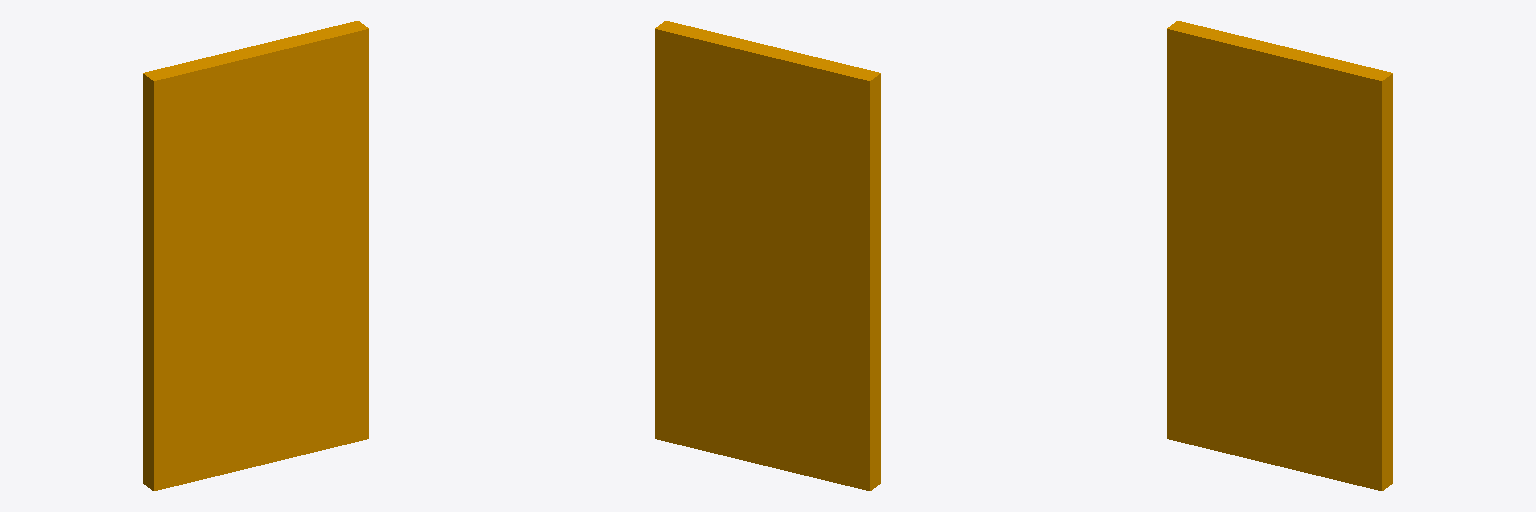
URDF robot description (door):
<robot name="door">
  <link name="door">
    <inertial>
      <origin xyz="0 0 0.0" />
      <mass value="1.0" />
      <inertia  ixx="1.0" ixy="0.0"  ixz="0.0"  iyy="1.0"  iyz="0.0"  izz="1.0" />
    </inertial>
    <visual>
      <origin xyz="0 0 0.0"/>
      <geometry>
        <box size="1.1 0.1 2" />
      </geometry>
    </visual>
    <collision>
      <origin xyz="0 0 0.0"/>
      <geometry>
        <box size="1.1 0.1 2" />
      </geometry>
    </collision>
  </link>
  <gazebo reference="door">
    <material>Gazebo/Grey</material>
  </gazebo>
</robot>

--- What the picture shows (computed from the rendered views, not written in the file) ---
Views: 3 orthographic renders of the robot side by side, from view 1: azimuth 30°, elevation 25°; view 2: azimuth 150°, elevation 25°; view 3: azimuth 330°, elevation 25°.
Model door with 1 links and 0 joints (none), rooted at door, posed every joint at zero.
Visible links, largest first — view 1: door; view 2: door; view 3: door.
Boxes of the visible links, left/top/right/bottom form: door: left=143, top=21, right=368, bottom=490; door: left=655, top=21, right=880, bottom=490; door: left=1167, top=21, right=1392, bottom=490.
Bounding box of the posed robot: 1.1 × 0.1 × 2 m (x, y, z).
Geometry: primitives only (box / cylinder / sphere), no mesh files.